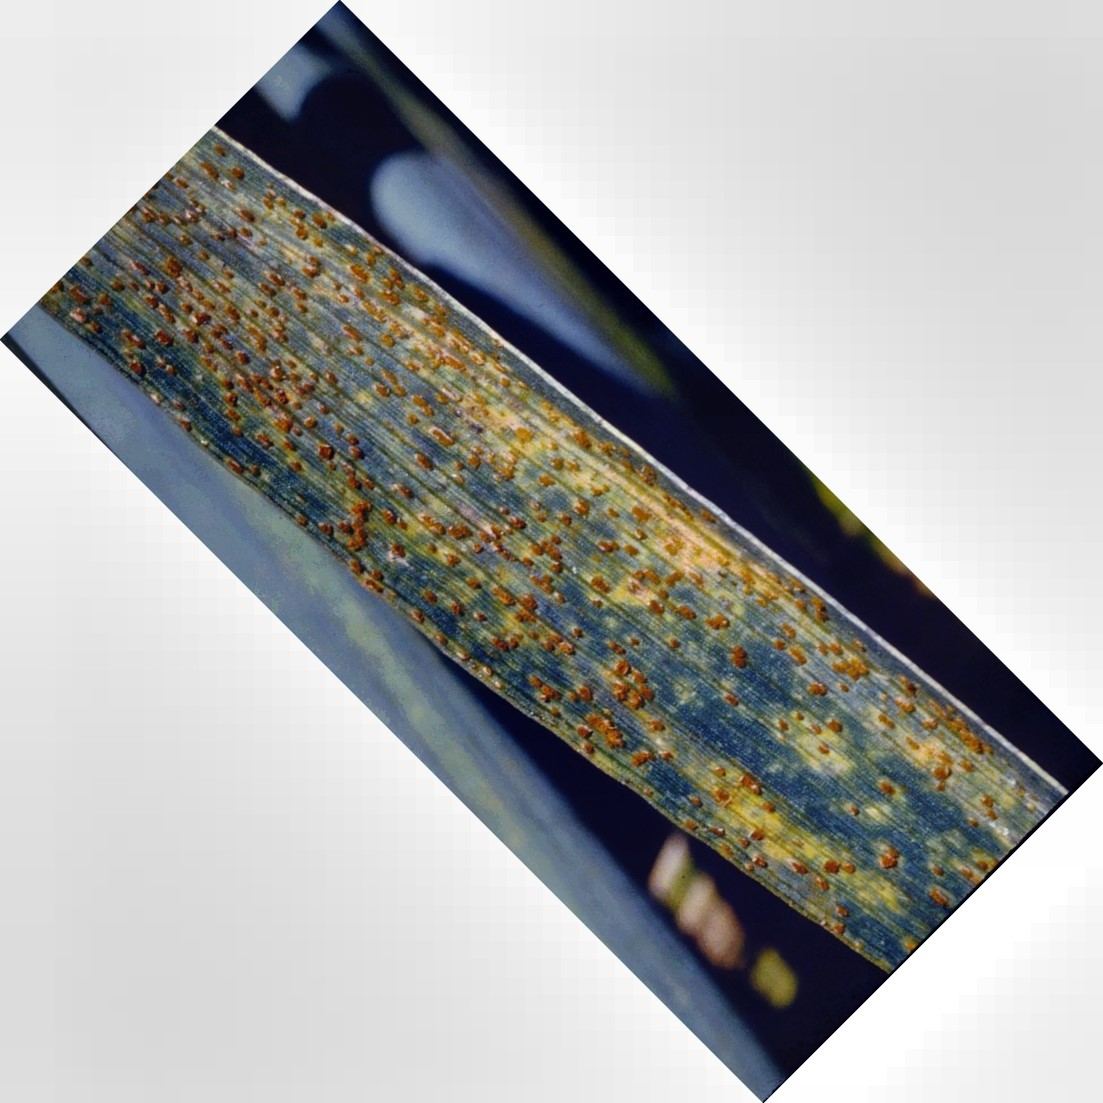Leaf Rust: (140, 224, 929, 888)
